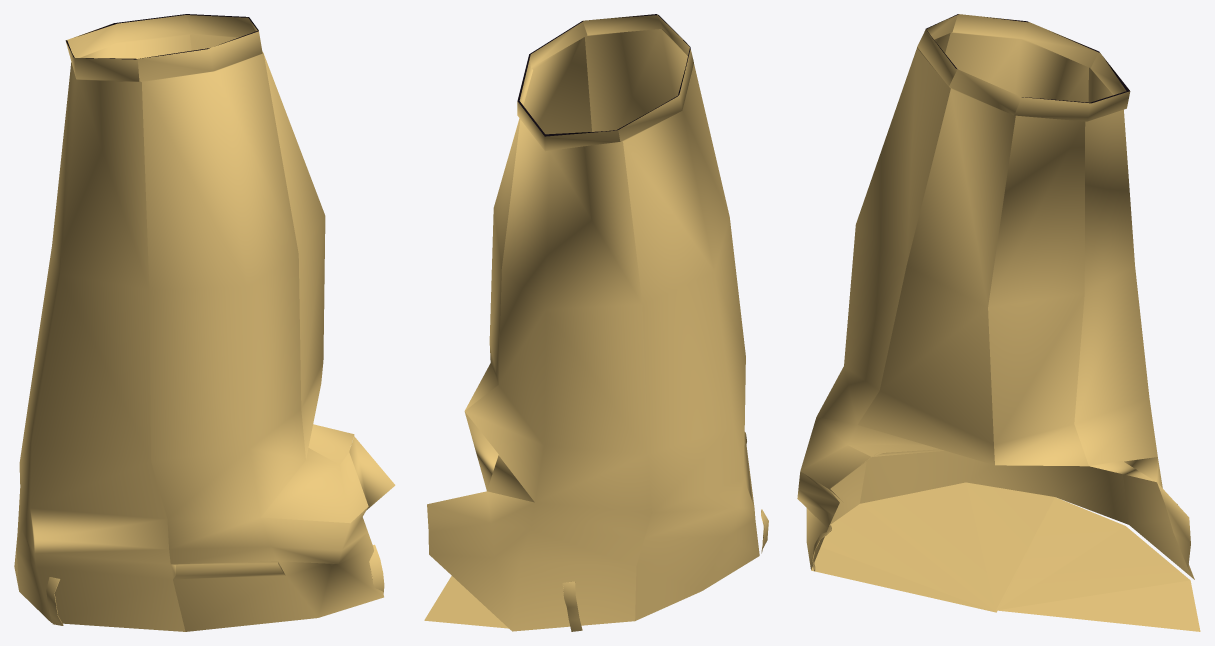
The model's file is left_up_leg.glb.
3 renders of one model, left to right at view 1: azimuth 30°, elevation 25°; view 2: azimuth 150°, elevation 25°; view 3: azimuth 270°, elevation 25°, orthographic. The views are drawn at different scales.
Visible parts, largest first — view 1: shorts-yellow_LEFT_UP_LEG; view 2: shorts-yellow_LEFT_UP_LEG; view 3: shorts-yellow_LEFT_UP_LEG.
Boxes of the visible parts, x1=… form: shorts-yellow_LEFT_UP_LEG: x1=14, y1=14, x2=395, y2=631; shorts-yellow_LEFT_UP_LEG: x1=424, y1=14, x2=768, y2=631; shorts-yellow_LEFT_UP_LEG: x1=797, y1=14, x2=1200, y2=631.
Size of the model in its own units: 0.257 by 0.5014 by 0.3317.
Materials: 1 (1 with a texture image).
